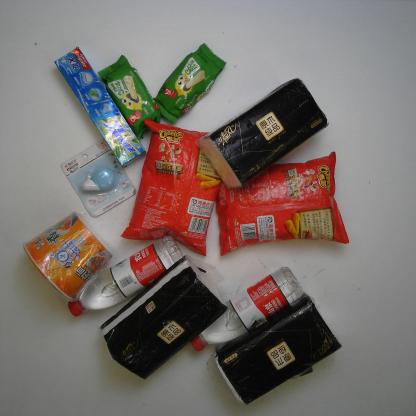Dessert: (150, 42, 228, 123), (95, 52, 163, 136)
Drink: (189, 265, 304, 353), (66, 233, 185, 314)
Instant Noodles: (21, 206, 115, 308)
Personal Hygiene: (54, 46, 145, 166)
Puffed Food: (119, 116, 224, 258), (214, 151, 350, 256)
Stationery: (62, 136, 139, 216)
Tissue: (99, 250, 226, 378), (214, 291, 343, 408), (198, 78, 330, 192)
